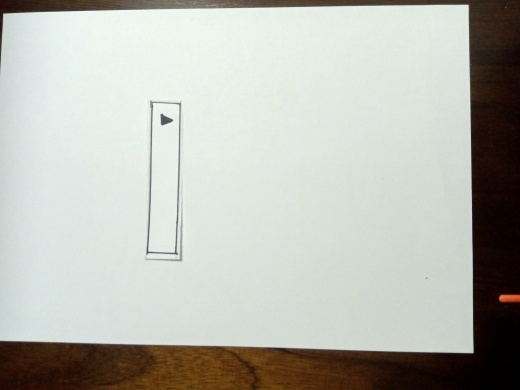dropdown: (150, 101, 180, 256)
